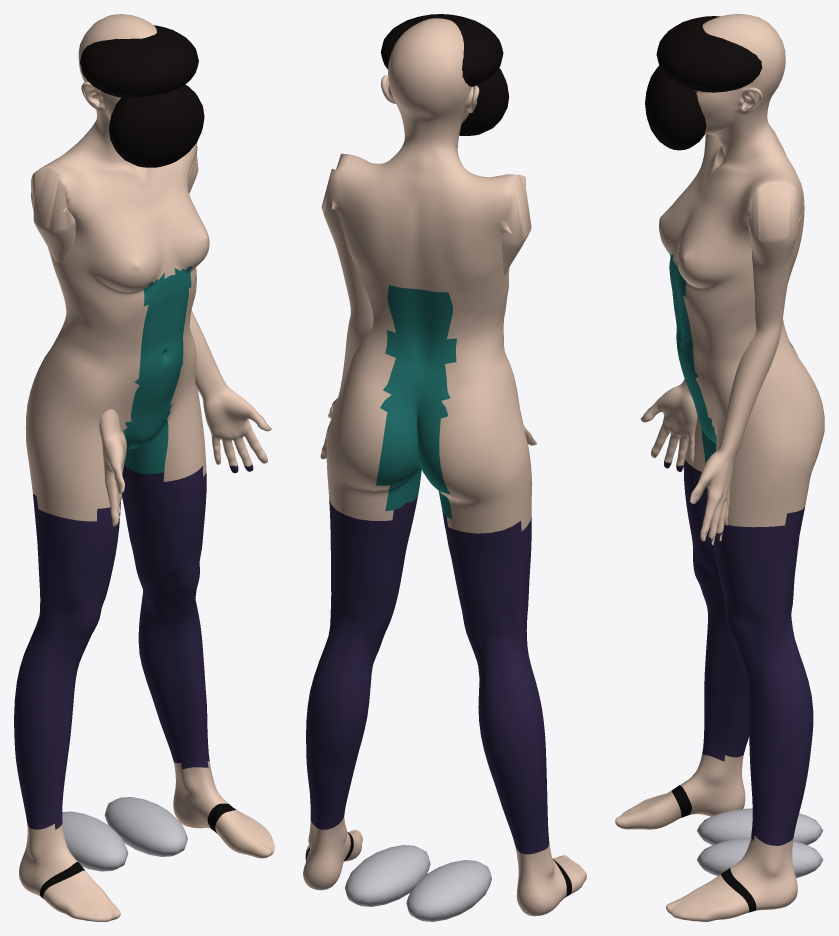
Rendered from hm_ped_suki_v15.obj.
3 renders of one model, left to right at view 1: azimuth 30°, elevation 25°; view 2: azimuth 150°, elevation 25°; view 3: azimuth 270°, elevation 25°, orthographic. The views are drawn at different scales.
Visible parts, largest first — view 1: hm_ped_suki; view 2: hm_ped_suki; view 3: hm_ped_suki.
Boxes of the visible parts, <box> form: hm_ped_suki: <box>14,14,274,921</box>; hm_ped_suki: <box>303,14,586,921</box>; hm_ped_suki: <box>615,14,824,921</box>.
Size of the model in its own units: 0.479 by 1.62 by 0.3644.
